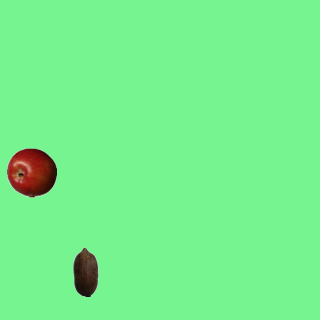Apple Braeburn: (6, 147, 56, 197)
Nut Pecan: (60, 246, 110, 296)
